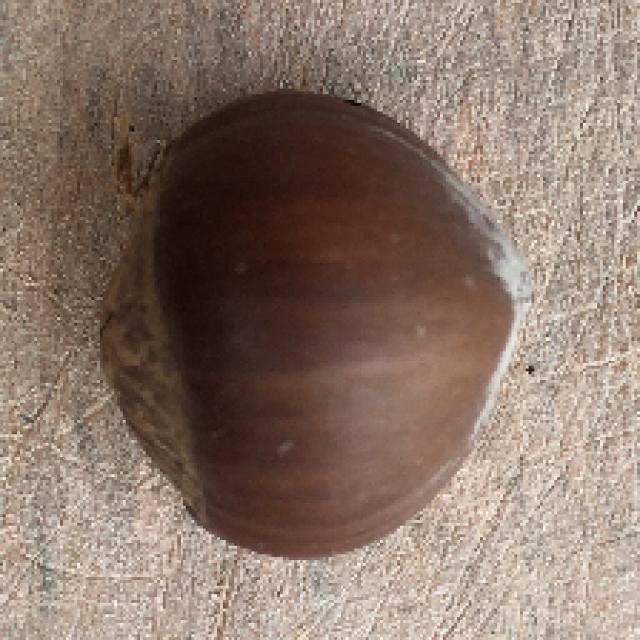DamagedHazelnut: (100, 93, 532, 564)
